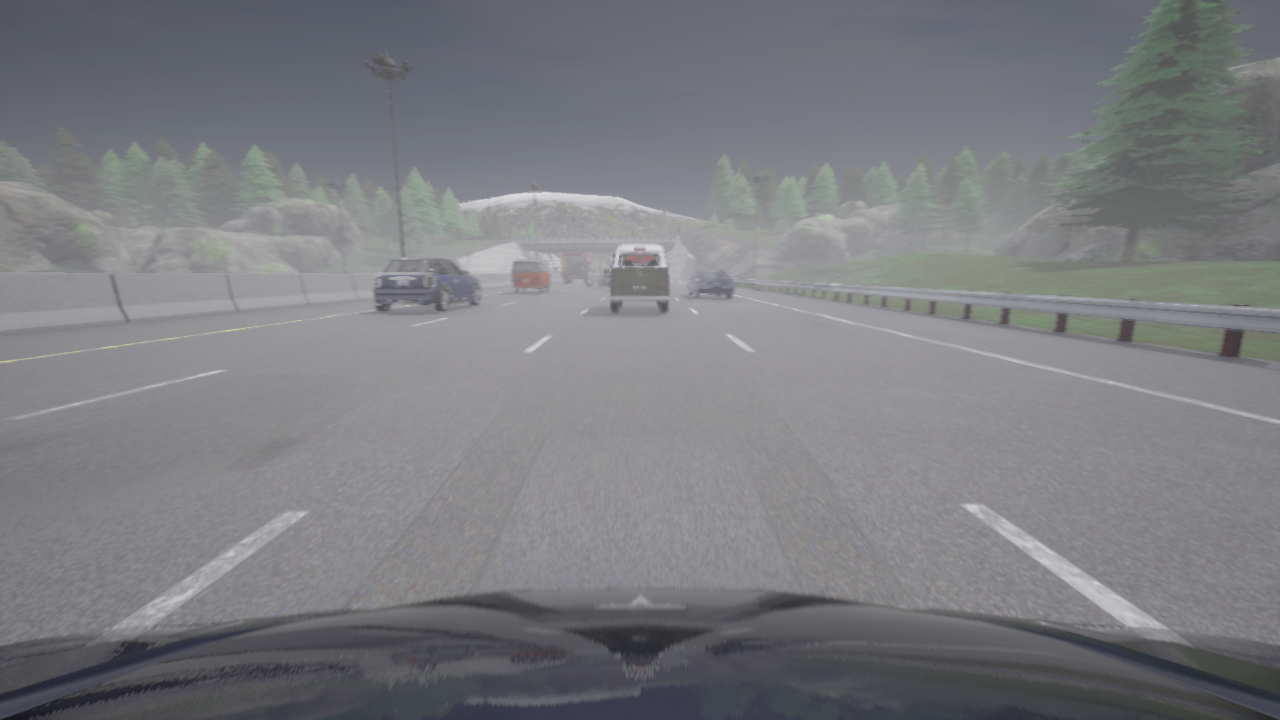cyclist: (0, 588, 1279, 719), (372, 255, 481, 312), (610, 244, 669, 312), (687, 269, 734, 298), (512, 260, 550, 293), (562, 249, 595, 283), (586, 268, 610, 287)
